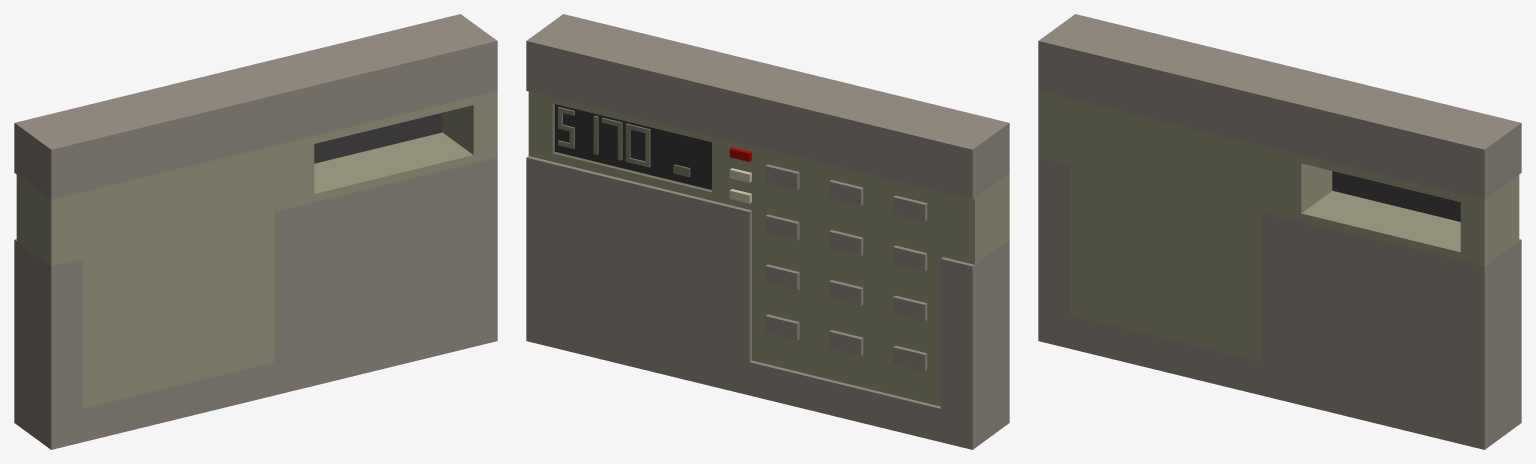
The model's file is security_panel.FBX.
3 views of the same model, side by side, from view 1: azimuth 30°, elevation 25°; view 2: azimuth 150°, elevation 25°; view 3: azimuth 330°, elevation 25° (orthographic).
Visible parts, largest first — view 1: 1:1; view 2: 1:1; view 3: 1:1.
Part boxes in pixels (left/top/right/bottom): 1:1: left=14, top=14, right=497, bottom=449; 1:1: left=526, top=14, right=1009, bottom=449; 1:1: left=1038, top=14, right=1521, bottom=449.
Size of the model in its own units: 4.52 by 2.9 by 0.6452.
